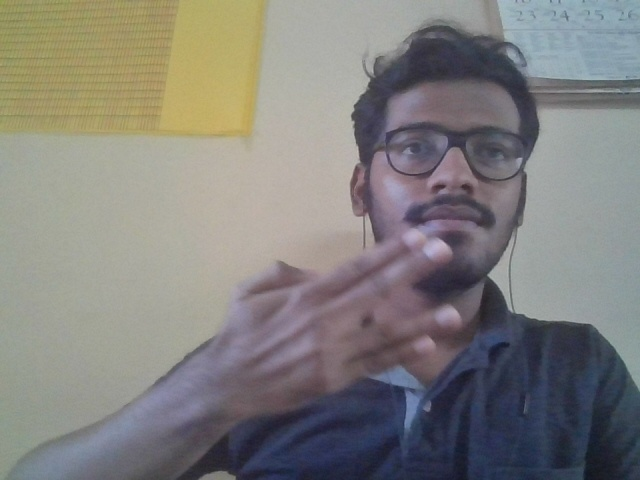LiveLong: (226, 230, 466, 422)
